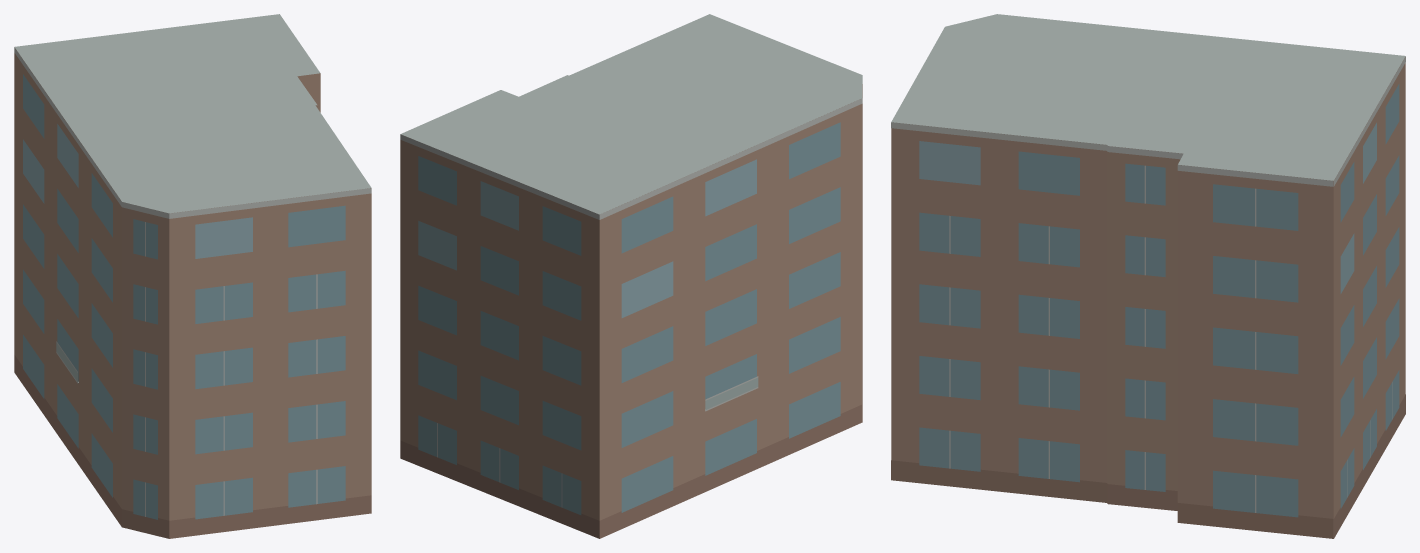
Rendered from survey-upis-32528191.glb.
3 renders of one model, left to right at view 1: azimuth 30°, elevation 25°; view 2: azimuth 150°, elevation 25°; view 3: azimuth 270°, elevation 25°, orthographic. The views are drawn at different scales.
Visible parts, largest first — view 1: survey-upis-32528191.tmp; view 2: survey-upis-32528191.tmp; view 3: survey-upis-32528191.tmp.
Part boxes in pixels (<box>): survey-upis-32528191.tmp: <box>14,14,371,538</box>; survey-upis-32528191.tmp: <box>400,14,862,538</box>; survey-upis-32528191.tmp: <box>891,14,1405,538</box>.
Bounding box in the file's own units: 14.45 × 14.45 × 18.83.
